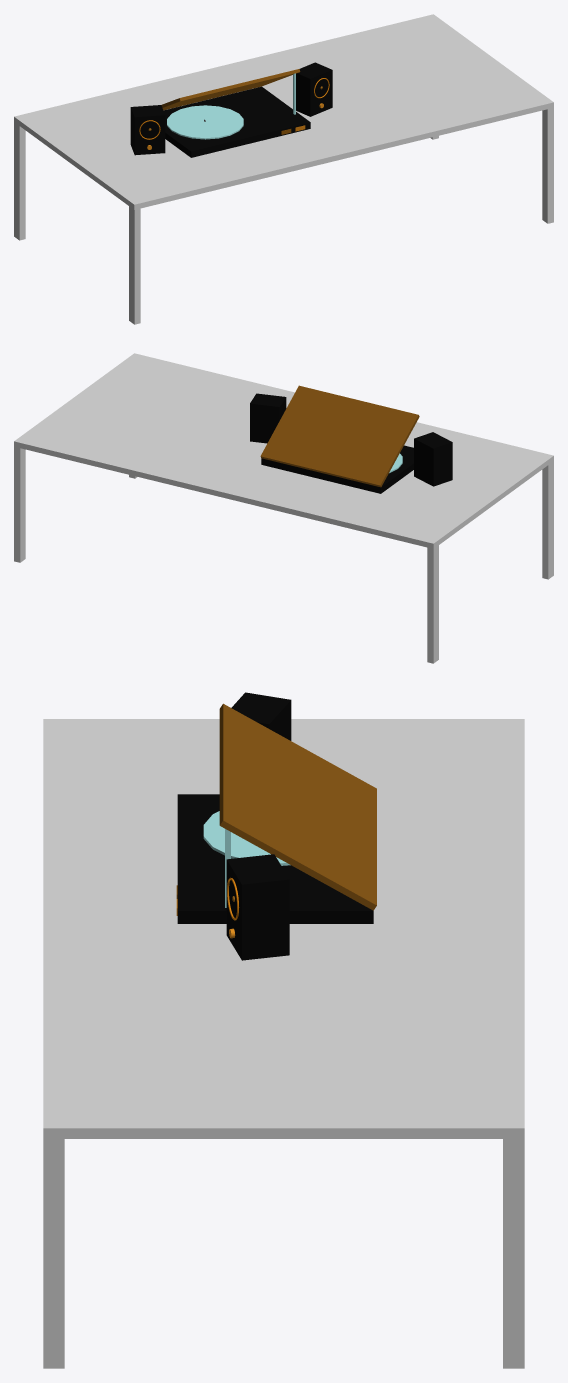
The model's file is desk.obj.
3 renders of one model, top to bottom at view 1: azimuth 30°, elevation 25°; view 2: azimuth 150°, elevation 25°; view 3: azimuth 270°, elevation 25°, orthographic. The views are drawn at different scales.
Parts seen in each view (by area): view 1: Box001, Box008, Cylinder001, Box013, Box014, Box004, Box005, Box002, Box009; view 2: Box001, Box009, Box014, Box008, Box013, Box002, Box003, Box004; view 3: Box001, Box009, Box008, Box013, Box003, Box005, Box014, Cylinder001.
Boxes of the visible parts, x1=… form: Box001: x1=14, y1=14, x2=553, y2=209; Box008: x1=163, y1=86, x2=310, y2=157; Cylinder001: x1=167, y1=105, x2=243, y2=139; Box013: x1=296, y1=62, x2=332, y2=116; Box014: x1=130, y1=105, x2=165, y2=155; Box004: x1=129, y1=206, x2=140, y2=324; Box005: x1=542, y1=107, x2=553, y2=223; Box002: x1=14, y1=122, x2=25, y2=240; Box009: x1=161, y1=69, x2=300, y2=110; Box001: x1=14, y1=353, x2=553, y2=548; Box009: x1=260, y1=385, x2=419, y2=487; Box014: x1=414, y1=432, x2=452, y2=486; Box008: x1=261, y1=445, x2=413, y2=493; Box013: x1=250, y1=393, x2=286, y2=443; Box002: x1=427, y1=545, x2=438, y2=663; Box003: x1=14, y1=446, x2=25, y2=562; Box004: x1=542, y1=461, x2=553, y2=579; Box001: x1=43, y1=719, x2=524, y2=1138; Box009: x1=219, y1=703, x2=376, y2=910; Box008: x1=177, y1=794, x2=373, y2=923; Box013: x1=226, y1=854, x2=289, y2=960; Box003: x1=503, y1=1139, x2=524, y2=1368; Box005: x1=43, y1=1139, x2=64, y2=1368; Box014: x1=231, y1=692, x2=291, y2=740; Cylinder001: x1=203, y1=811, x2=290, y2=865.
Bounding box in the file's own units: 39.93 × 15.62 × 19.84.
